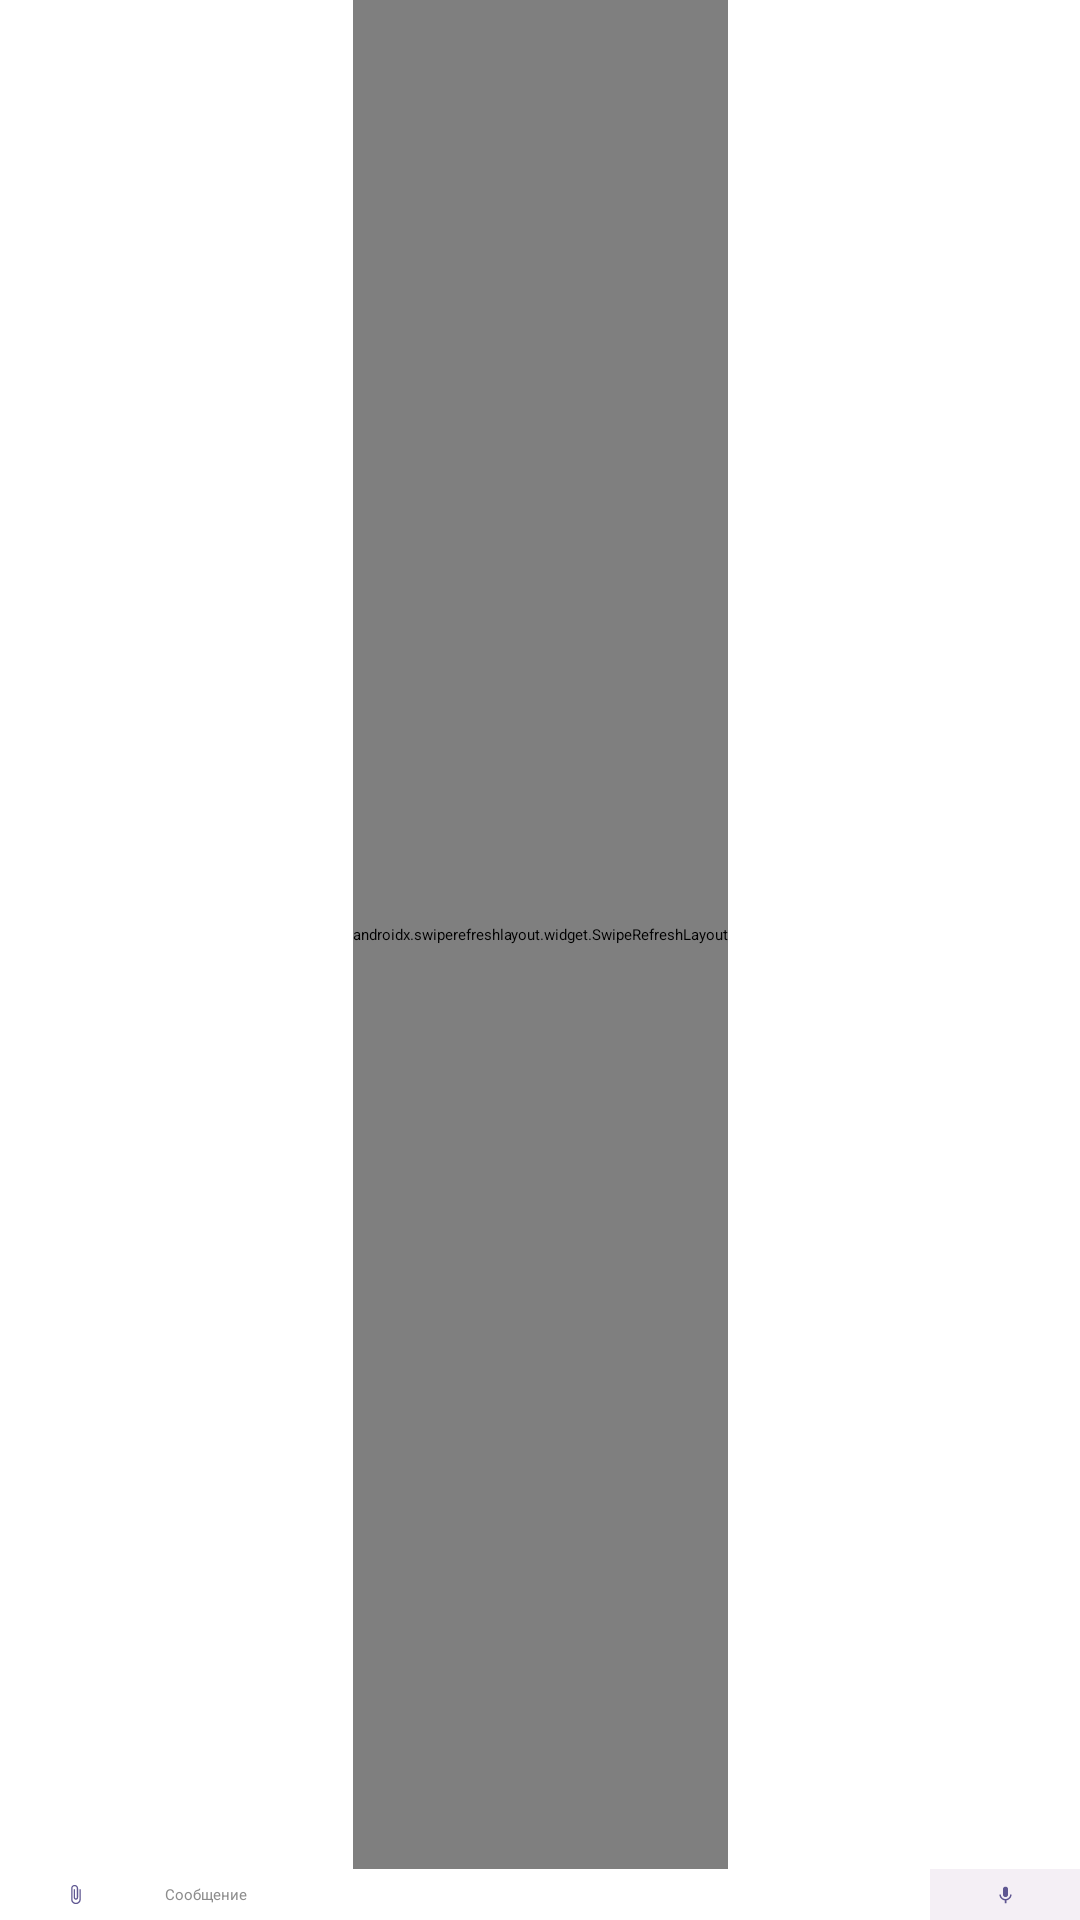

Icons on this 1080*1920 Android screen, each with the point to tap as (x,y):
voice: (1005,1894)
